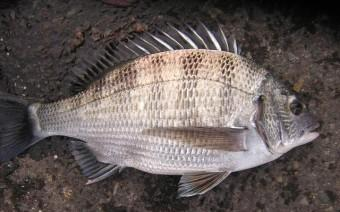fish: (1, 22, 319, 196)
